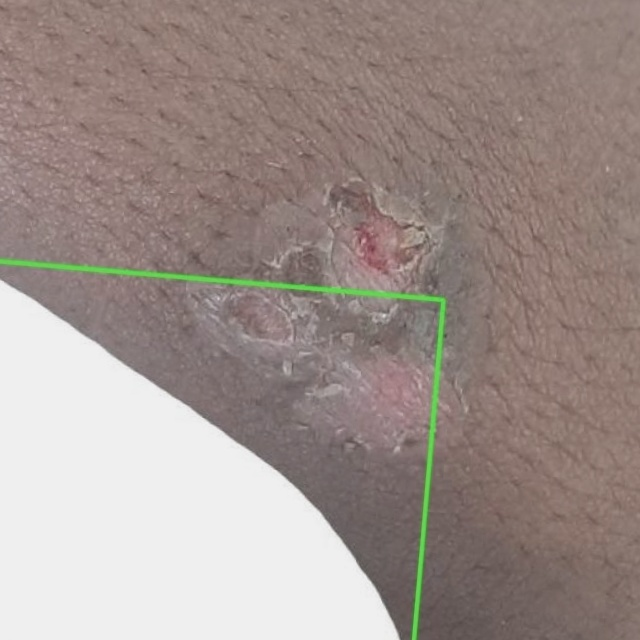Contact Dermatitis: (0, 261, 443, 639)
